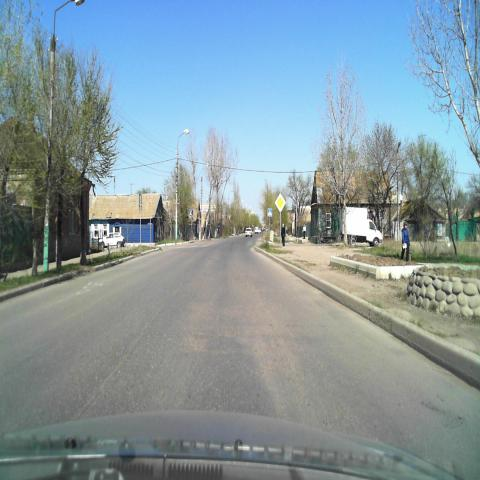2_1: (275, 192, 286, 214)
5_19_1: (267, 208, 273, 219), (189, 208, 194, 220)
